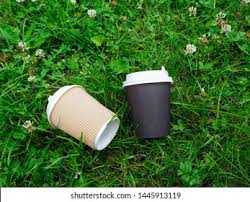cup: (47, 83, 121, 150), (123, 64, 175, 140)
